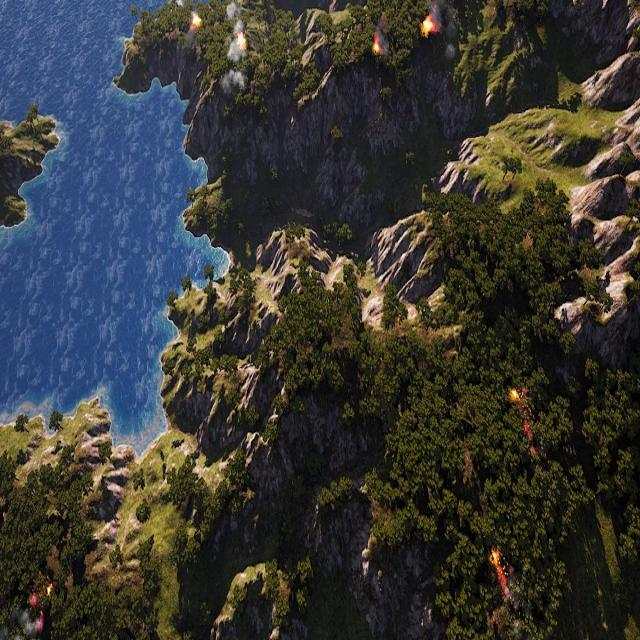fire: (508, 378, 538, 455), (486, 544, 511, 590), (372, 34, 383, 58), (238, 28, 248, 53), (189, 12, 201, 28), (422, 20, 434, 34)
smoke: (217, 2, 249, 98)
